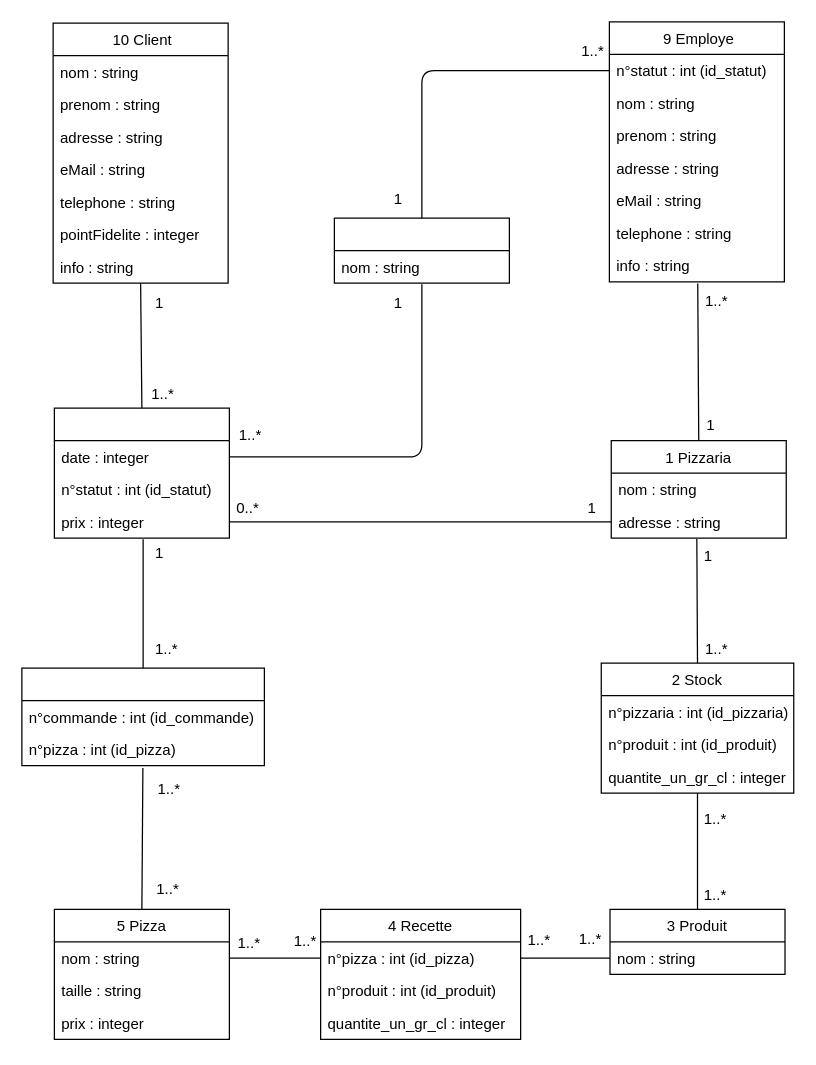
This 816x1065 diagram has some shape labels left out. Each missing label, with the box of its shape:
6 Composition_commande: (21, 667, 264, 766)
7 Commande: (53, 407, 229, 538)
8 Statut: (333, 217, 509, 283)
